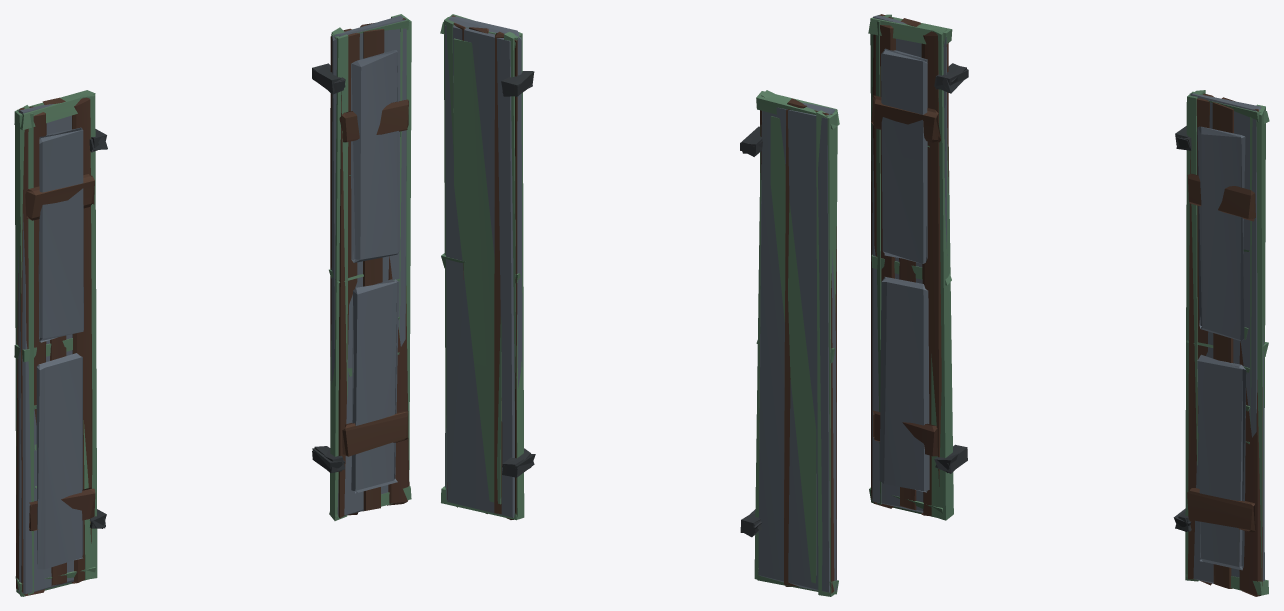
The model's file is shutters.glb.
The picture shows the model from 3 angles, left to right: view 1: azimuth 30°, elevation 25°; view 2: azimuth 150°, elevation 25°; view 3: azimuth 330°, elevation 25°; orthographic projection.
Parts seen in each view (by area): view 1: shutters.v2.mesh, shutters.v1.mesh, shutters.v0.mesh; view 2: shutters.v2.mesh, shutters.v0.mesh, shutters.v1.mesh; view 3: shutters.v2.mesh, shutters.v1.mesh, shutters.v0.mesh.
Part boxes in pixels (x1,y1,x2,y2): shutters.v2.mesh: (18,15,406,594); shutters.v1.mesh: (16,18,409,595); shutters.v0.mesh: (14,14,411,596); shutters.v2.mesh: (445,16,836,592); shutters.v0.mesh: (440,14,839,596); shutters.v1.mesh: (447,15,836,593); shutters.v2.mesh: (872,15,1264,583); shutters.v1.mesh: (871,14,1262,596); shutters.v0.mesh: (868,14,1269,595).
Bounding box in the file's own units: 0.9712 × 1.15 × 0.0858.
